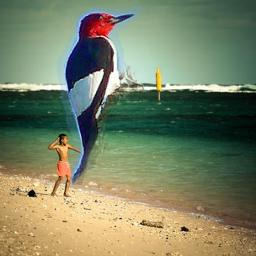Woodpecker: (49, 0, 144, 185)
